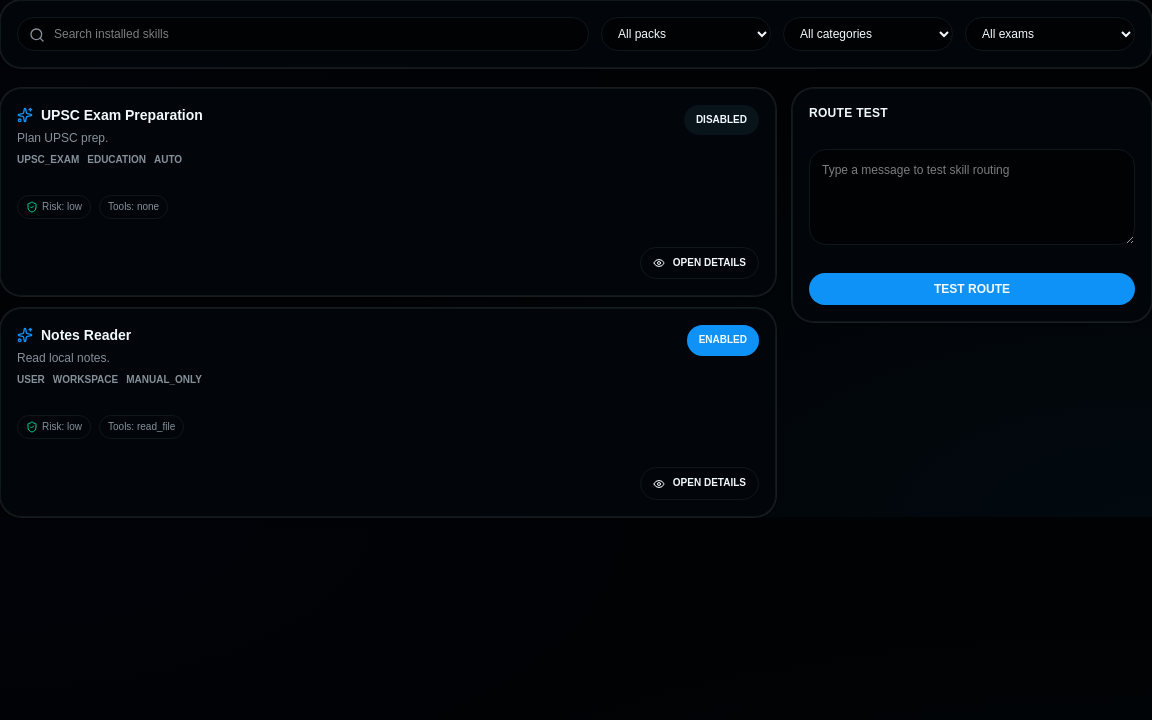
Test: SkillsSettingsPanel › filters skills and displays route-test results
The image size is (1152, 720).
Expected: the heading "UPSC Exam Preparation" is shown, [41,105,203,125]
Type "notes" into the field with placeholder "Search installed skills" at (303, 34), box [17,17,589,51]
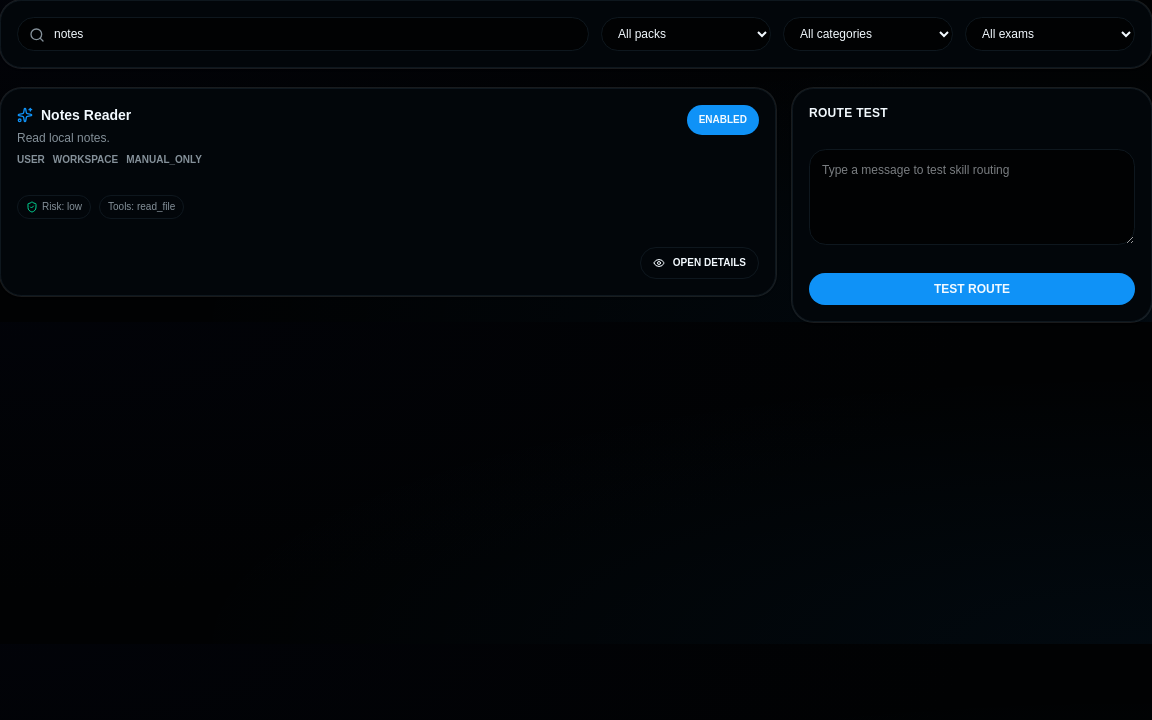
Expected: the heading "Notes Reader" is shown, [41,105,131,125]
Expected: the heading "UPSC Exam Preparation" is gone
Type "make an upsc plan" into the text box with placeholder "Type a message to test skill routing" at (972, 197), box [809,149,1135,245]
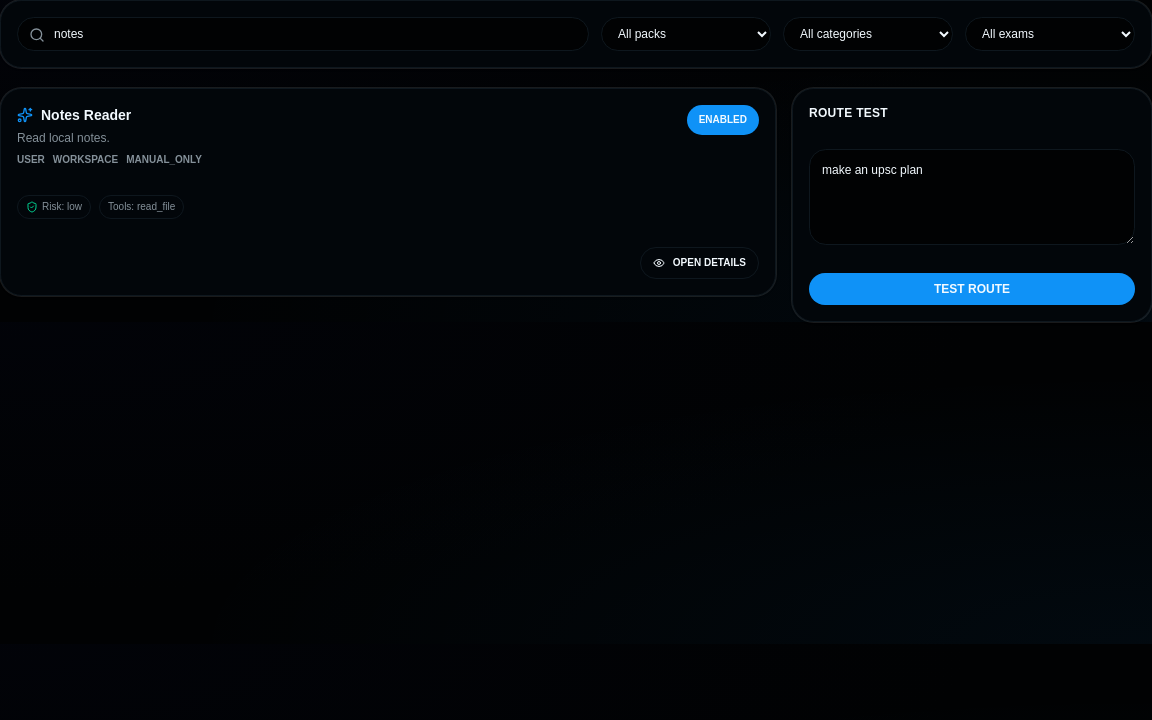
Click the button "Test Route" at (972, 289), box [809,273,1135,305]
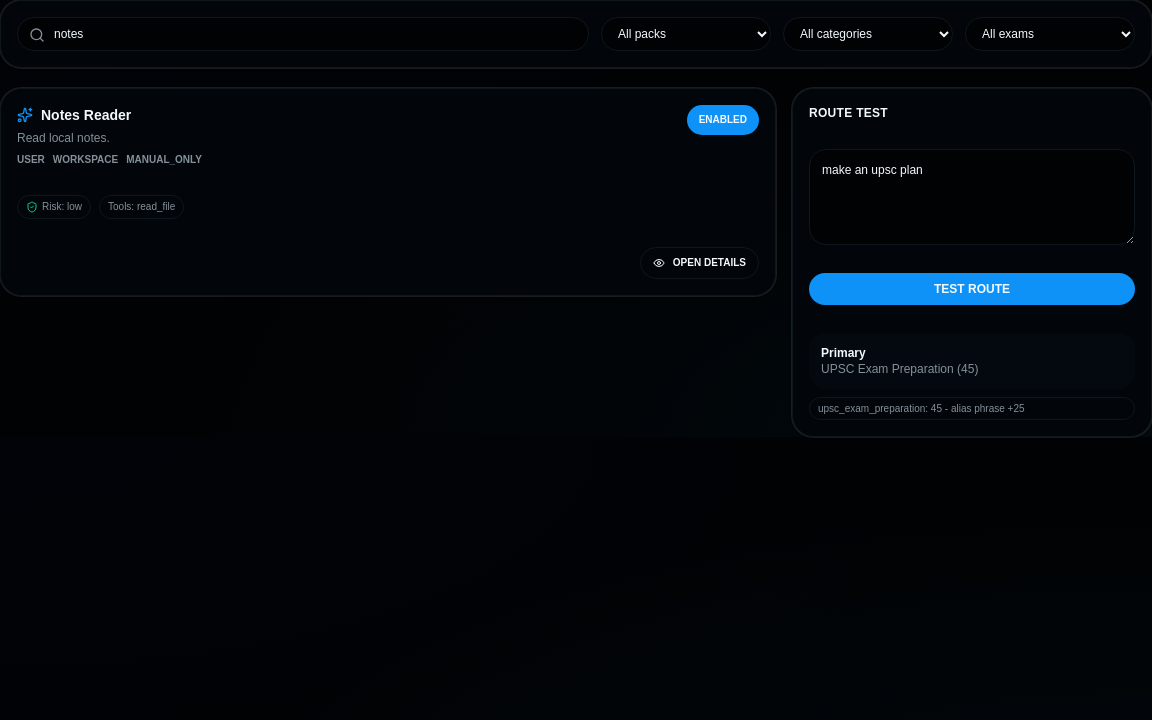
Expected: the text "UPSC Exam Preparation (45)" is shown, [821,362,978,376]
